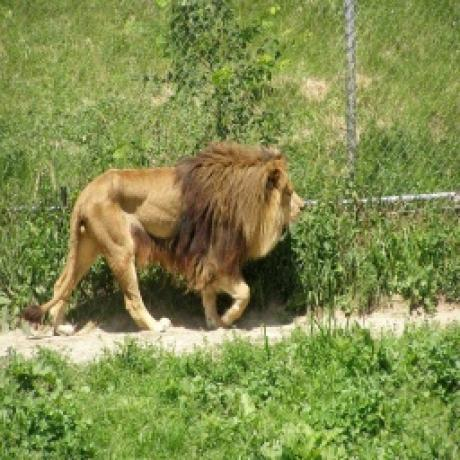Lion: (18, 136, 310, 329)
